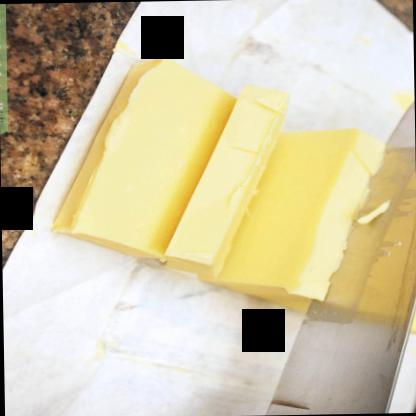butter: (67, 57, 239, 264), (213, 126, 385, 301), (163, 88, 290, 276)
